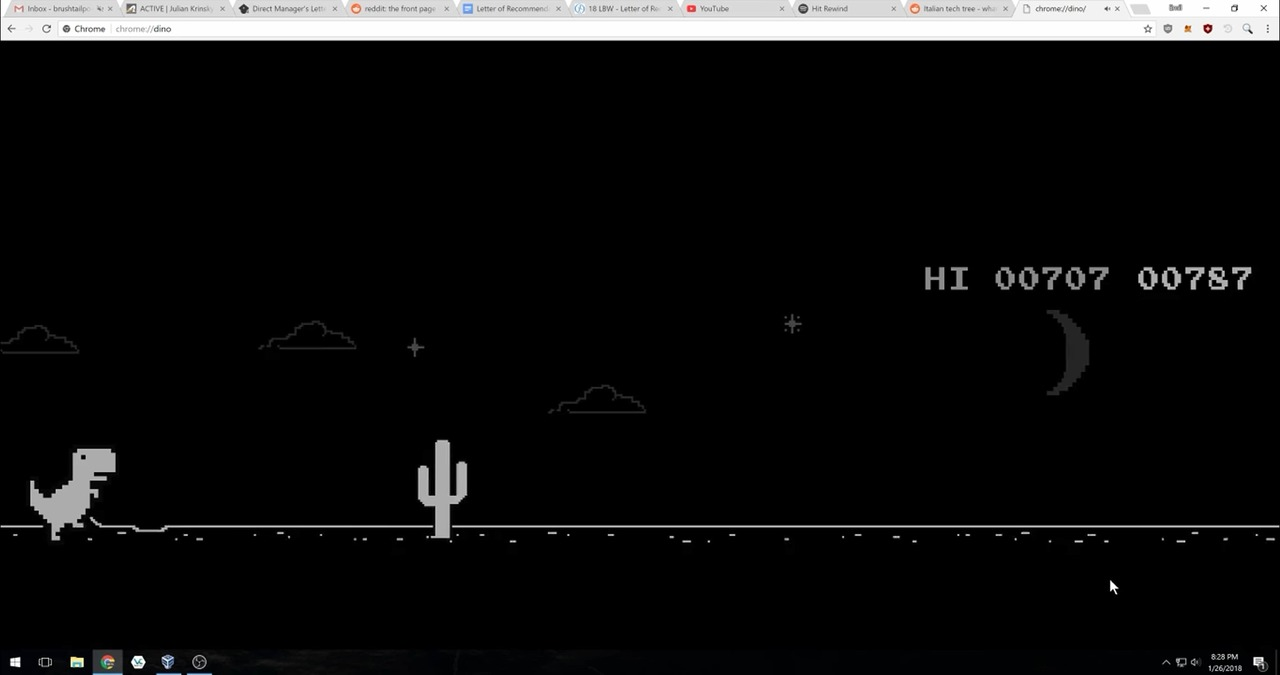cactus: (416, 440, 472, 544)
dinosaur: (28, 441, 117, 544)
